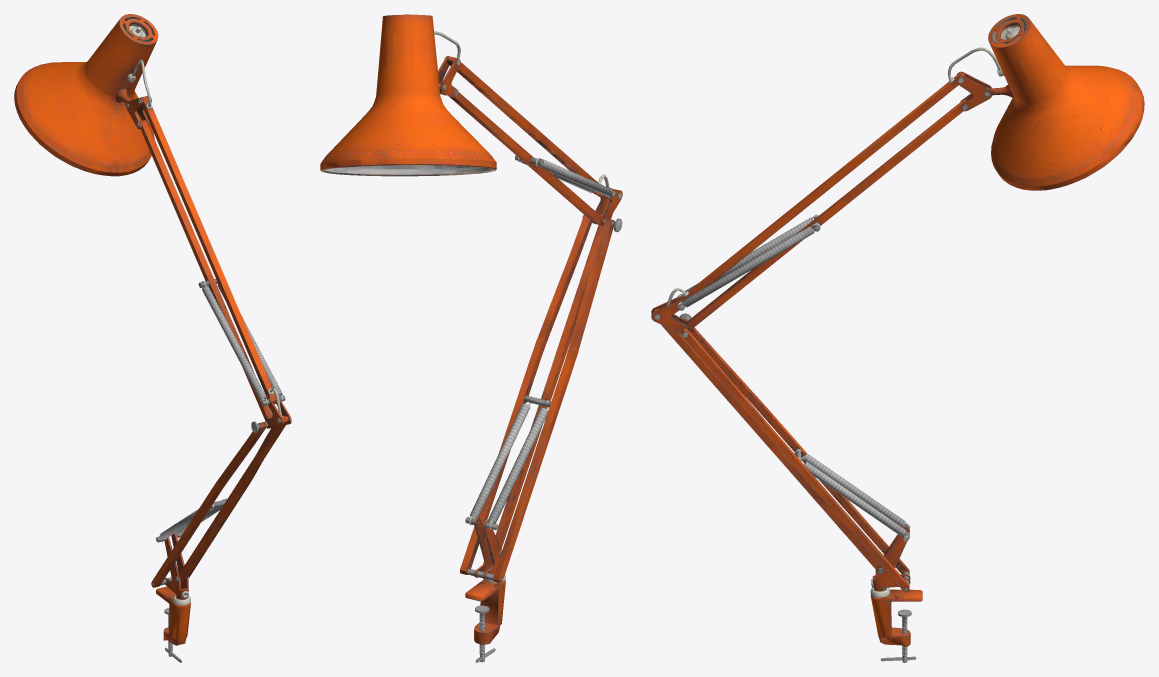
Rendered from desk_lamp_arm_01.glb.
3 renders of one model, left to right at view 1: azimuth 30°, elevation 25°; view 2: azimuth 150°, elevation 25°; view 3: azimuth 270°, elevation 25°, orthographic. The views are drawn at different scales.
Visible parts, largest first — view 1: desk_lamp_arm_01; view 2: desk_lamp_arm_01; view 3: desk_lamp_arm_01.
Boxes of the visible parts, x1,y1,x2,y2 form: desk_lamp_arm_01: (14,14,291,662); desk_lamp_arm_01: (320,14,622,662); desk_lamp_arm_01: (651,14,1144,662).
Bounding box in the file's own units: 0.202 × 0.8926 × 0.6141.
2 materials, 2 textured.
